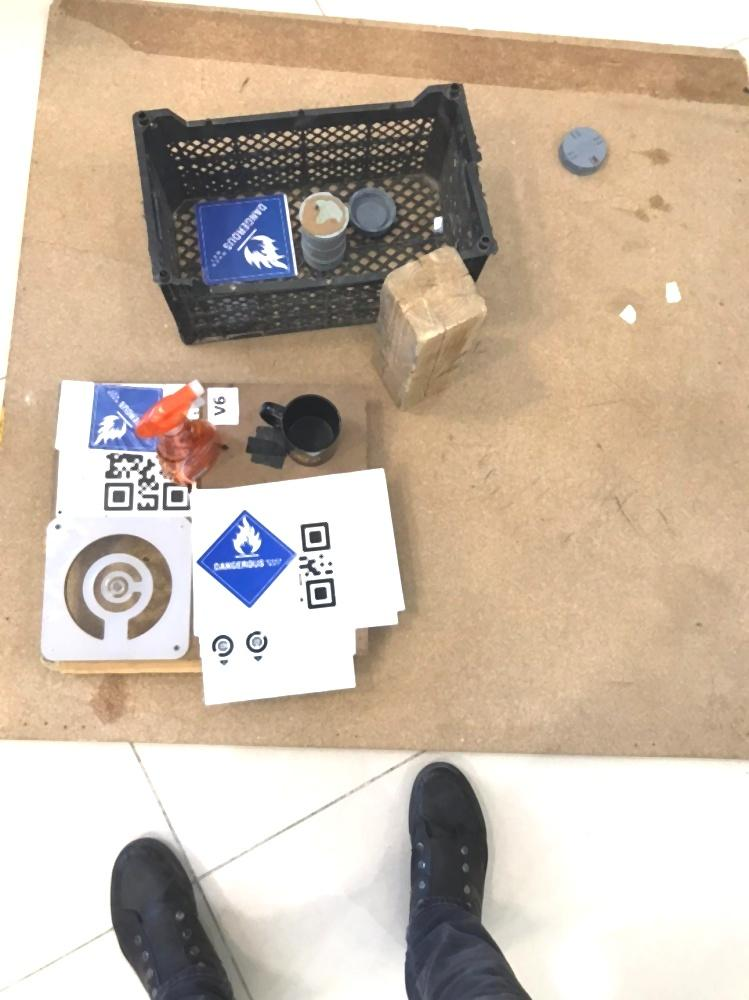dangerous-when-wet: (198, 509, 299, 608), (192, 197, 297, 287), (88, 379, 168, 452)
